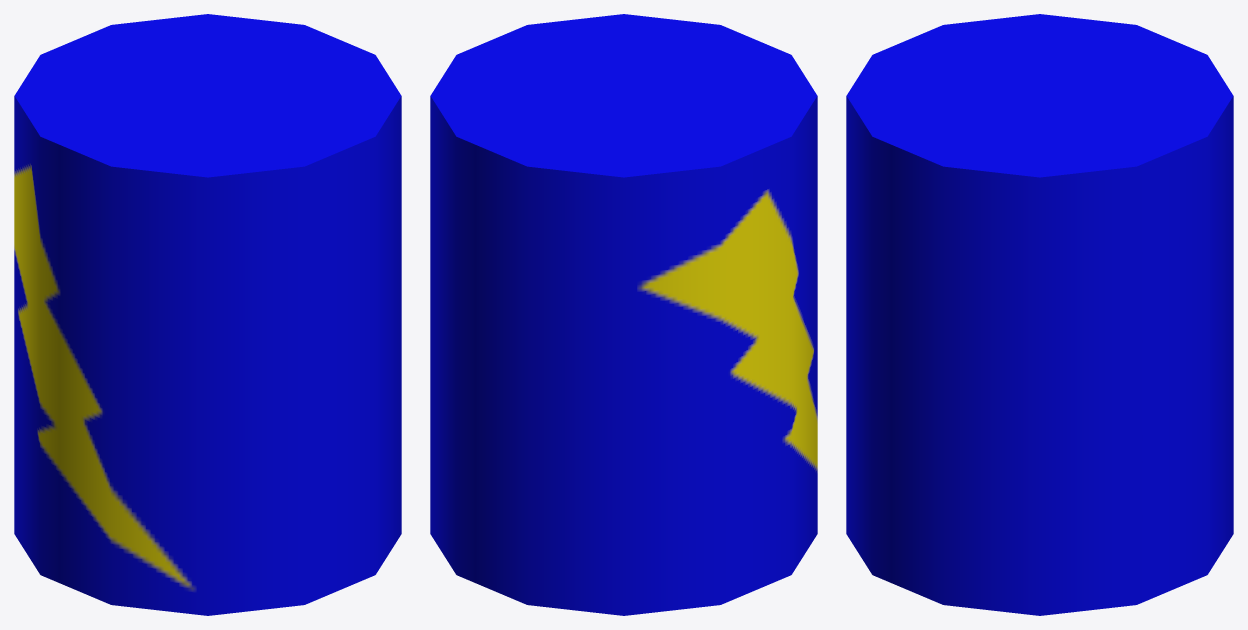
File: SpeedBoost.FBX
3 renders of one model, left to right at view 1: azimuth 30°, elevation 25°; view 2: azimuth 150°, elevation 25°; view 3: azimuth 270°, elevation 25°, orthographic.
Visible parts, largest first — view 1: EnergyDrink; view 2: EnergyDrink; view 3: EnergyDrink.
Part boxes in pixels (bbox=[...]): EnergyDrink: bbox=[14, 14, 401, 615]; EnergyDrink: bbox=[430, 14, 817, 615]; EnergyDrink: bbox=[846, 14, 1233, 615].
Bounding box in the file's own units: 0.9835 × 1.23 × 0.9835.
Materials: 1 (1 with a texture image).
